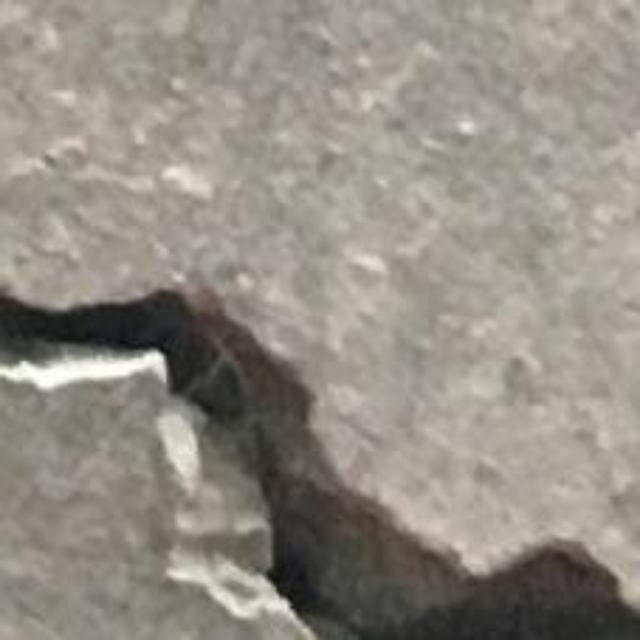crack: (0, 291, 639, 639)
